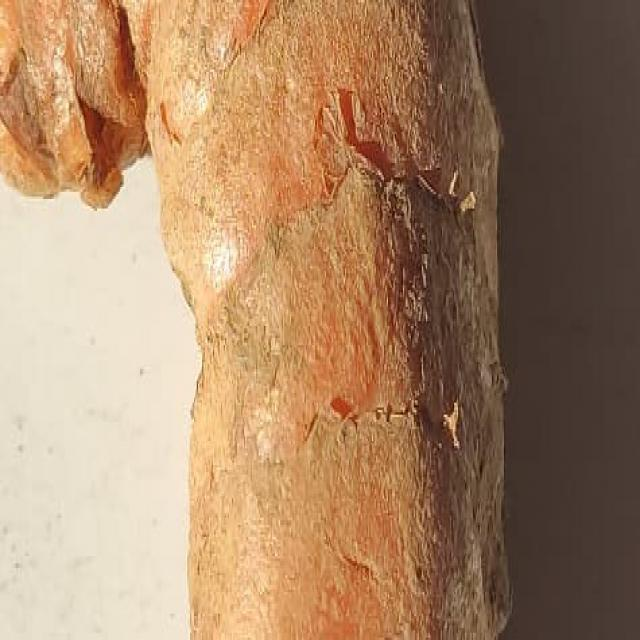ginger: (140, 16, 514, 640)
